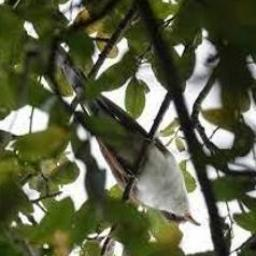Cuckoo: (53, 47, 200, 228)
